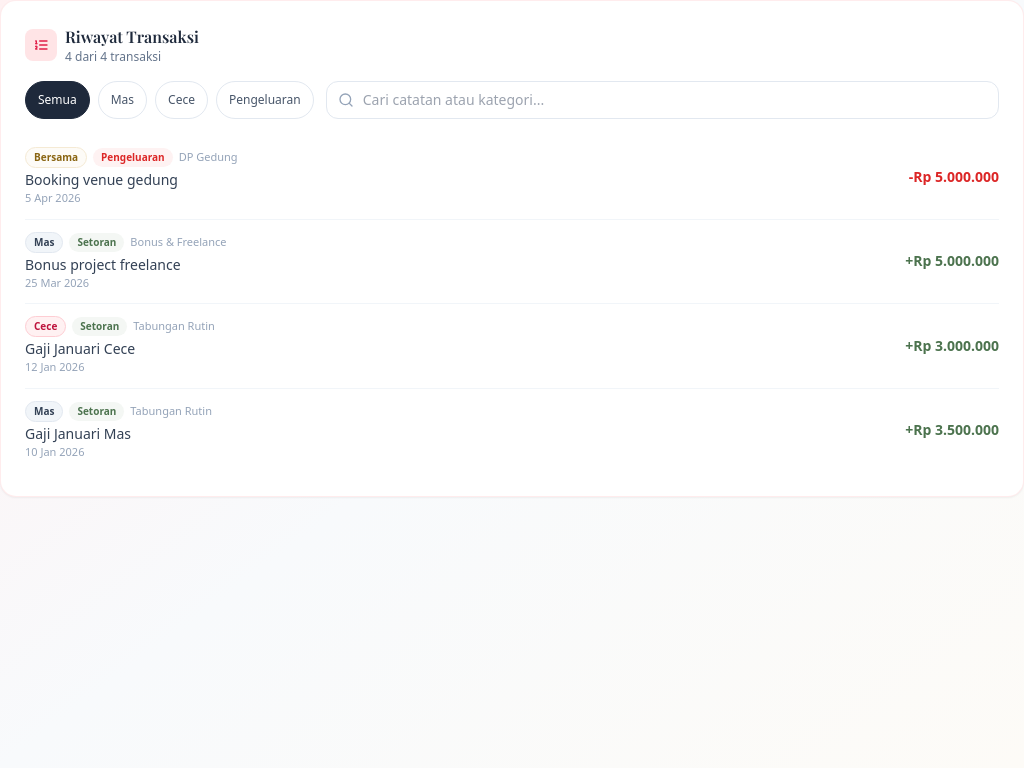
Scenario: TransactionHistory Component › filters by Cece
The width and height of the screenshot is (1024, 768).
Click the button "Cece": point(182, 100) 155,81 -> 208,119
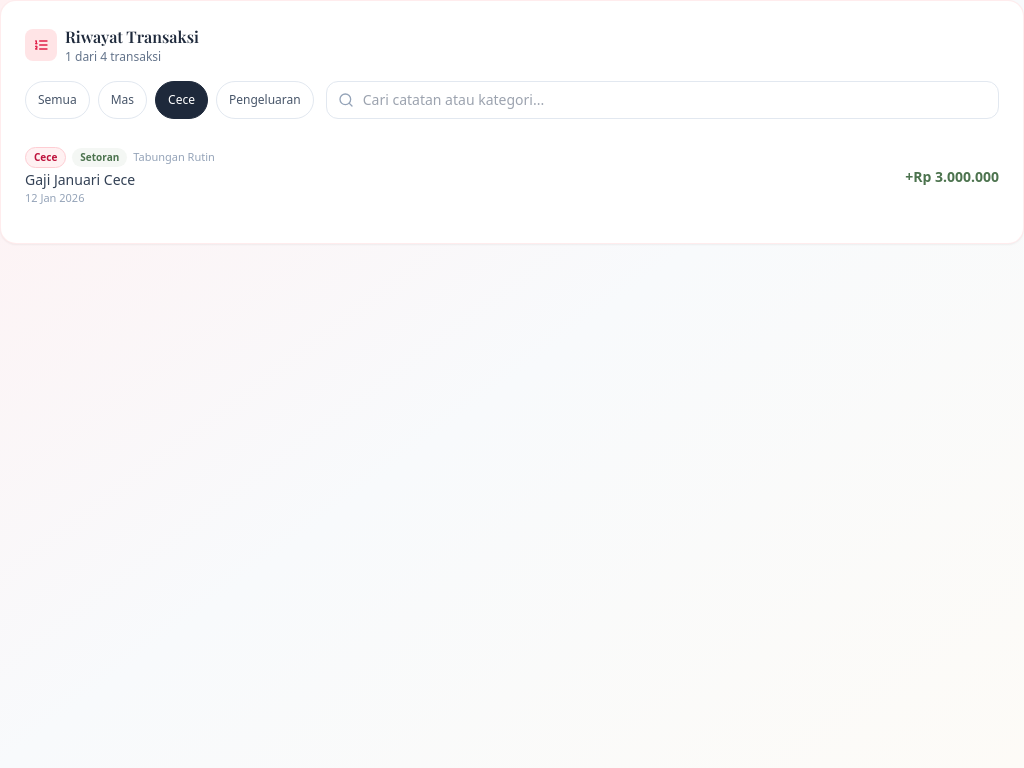
Expected: the list item with test id "tx-row" shows "Gaji Januari Cece", 25,170 -> 135,189
Expected: the number of list items with test id "tx-row" is 1, 25,135 -> 999,218
